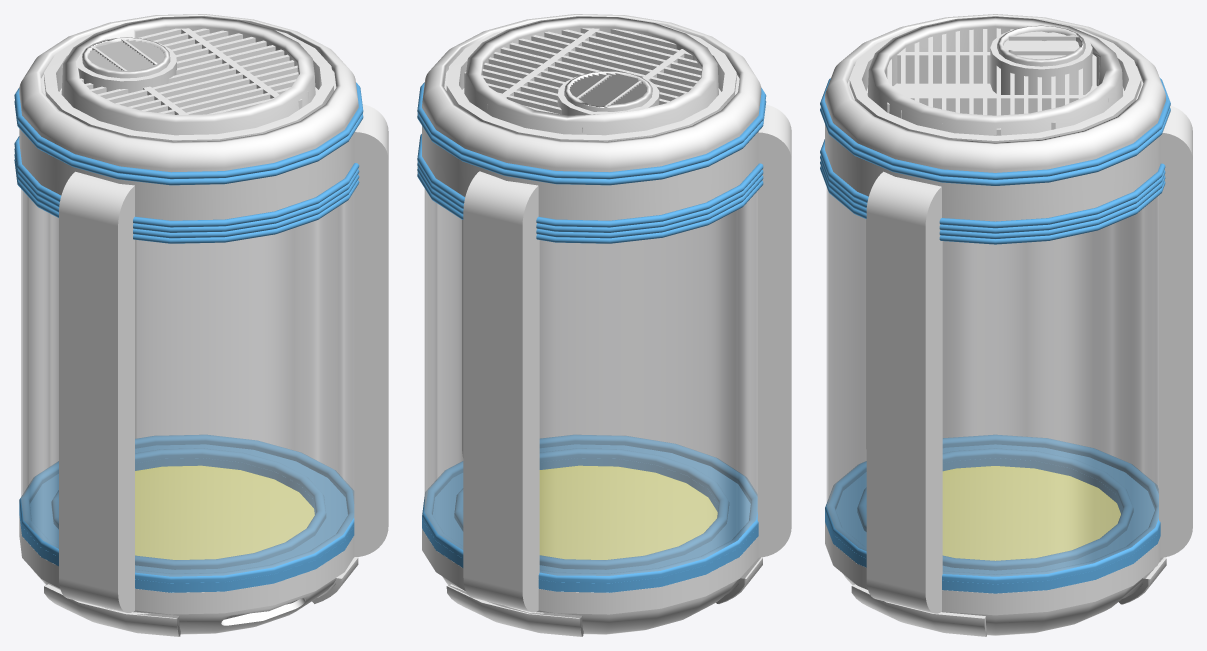
The model's file is incubator.glb.
3 views of the same model, side by side, from view 1: azimuth 30°, elevation 25°; view 2: azimuth 150°, elevation 25°; view 3: azimuth 270°, elevation 25° (orthographic).
Visible parts, largest first — view 1: top_outer; view 2: top_outer; view 3: top_outer.
Boxes of the visible parts, x1,y1,x2,y2 form: top_outer: (14,14,388,636); top_outer: (417,14,791,636); top_outer: (820,14,1192,636).
Size of the model in its own units: 0.1473 by 0.2219 by 0.1444.
